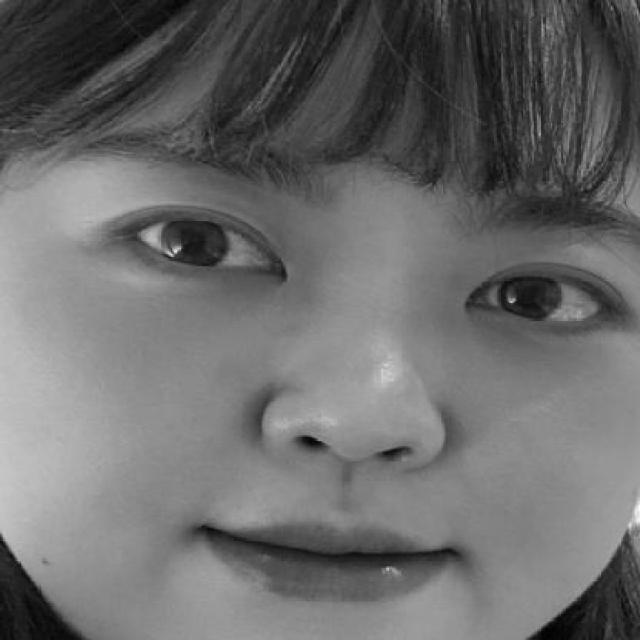happy: (46, 136, 640, 630)
